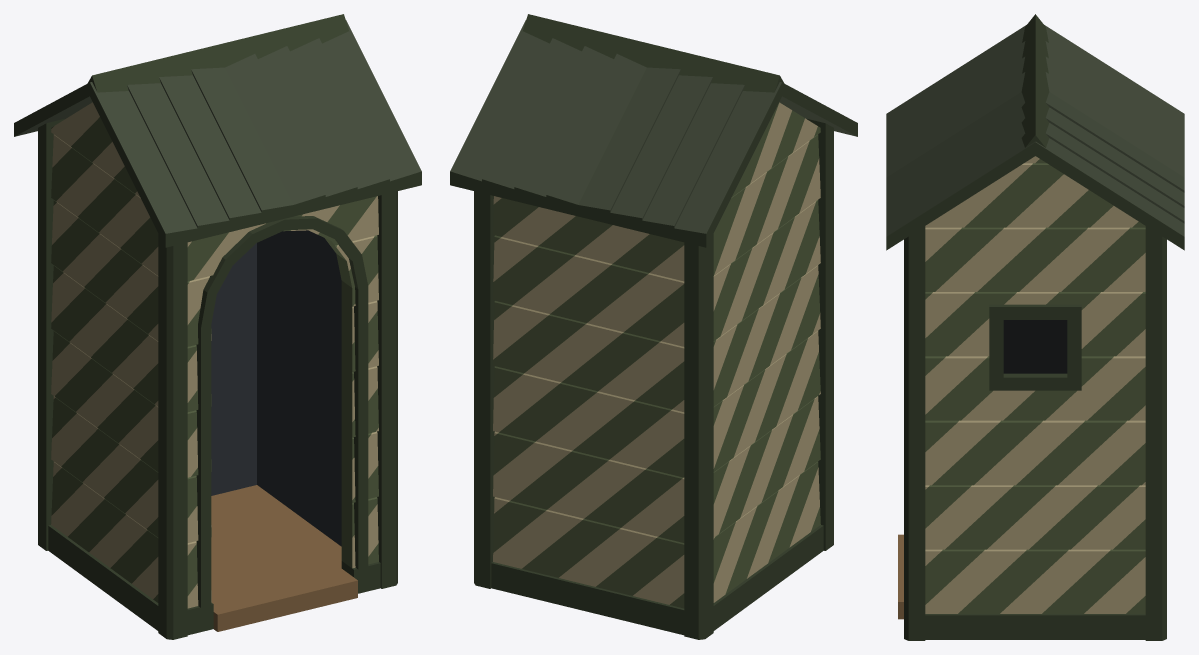
Rendered from sentry-box-fc915e.glb.
The picture shows the model from 3 angles, left to right: view 1: azimuth 30°, elevation 25°; view 2: azimuth 150°, elevation 25°; view 3: azimuth 270°, elevation 25°; orthographic projection.
Visible parts, largest first — view 1: sentry-box-shell; view 2: sentry-box-shell; view 3: sentry-box-shell.
Boxes of the visible parts, left/top/right/bottom form: sentry-box-shell: left=14, top=14, right=421, bottom=639; sentry-box-shell: left=450, top=14, right=857, bottom=639; sentry-box-shell: left=886, top=14, right=1184, bottom=640.
Size of the model in its own units: 1.39 by 2.68 by 1.42.
